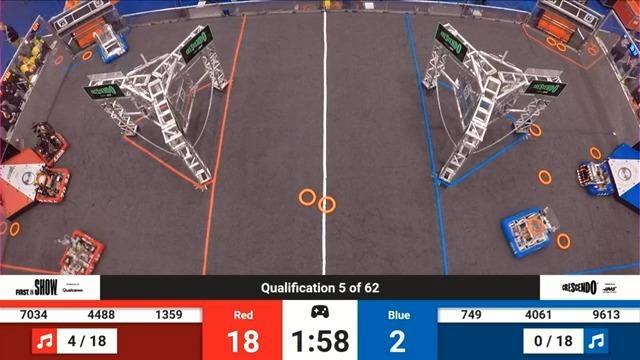robot: (494, 198, 559, 259), (49, 229, 112, 275), (574, 149, 619, 204), (26, 165, 72, 212), (25, 121, 74, 165), (86, 20, 133, 62)
